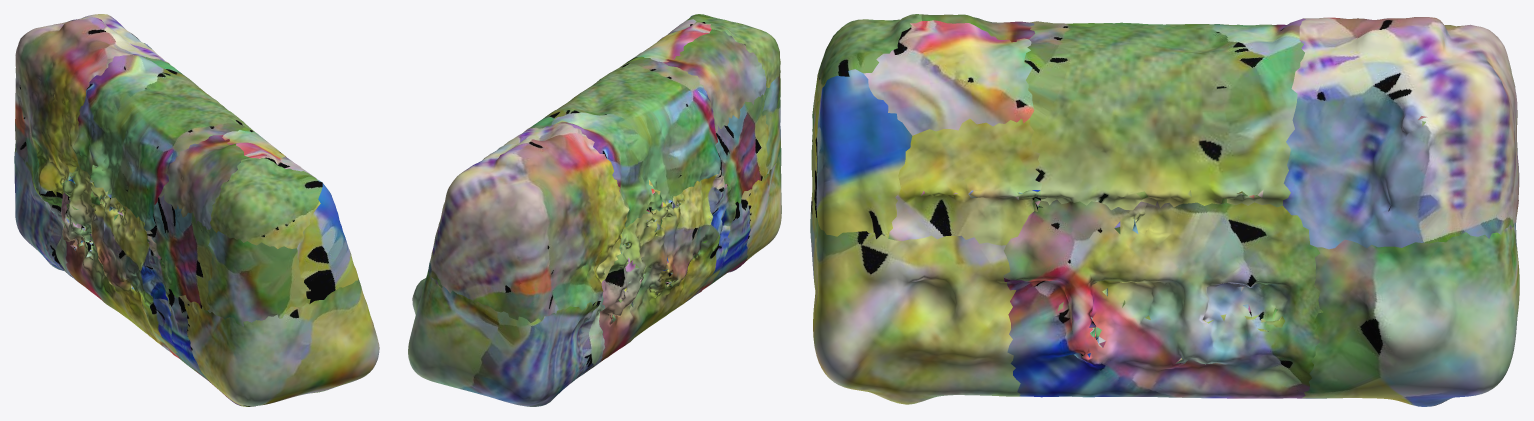
The model's file is Solar_powered_radio_f_0822024717_preview.obj.
The picture shows the model from 3 angles, left to right: view 1: azimuth 30°, elevation 25°; view 2: azimuth 150°, elevation 25°; view 3: azimuth 270°, elevation 25°; orthographic projection. The views are drawn at different scales.
Parts seen in each view (by area): view 1: Mesh1; view 2: Mesh1; view 3: Mesh1.
Part boxes in pixels (left/top/right/bottom): Mesh1: left=14, top=14, right=379, bottom=406; Mesh1: left=408, top=14, right=781, bottom=406; Mesh1: left=810, top=14, right=1519, bottom=406.
Size of the model in its own units: 0.4806 by 0.6462 by 1.2.
